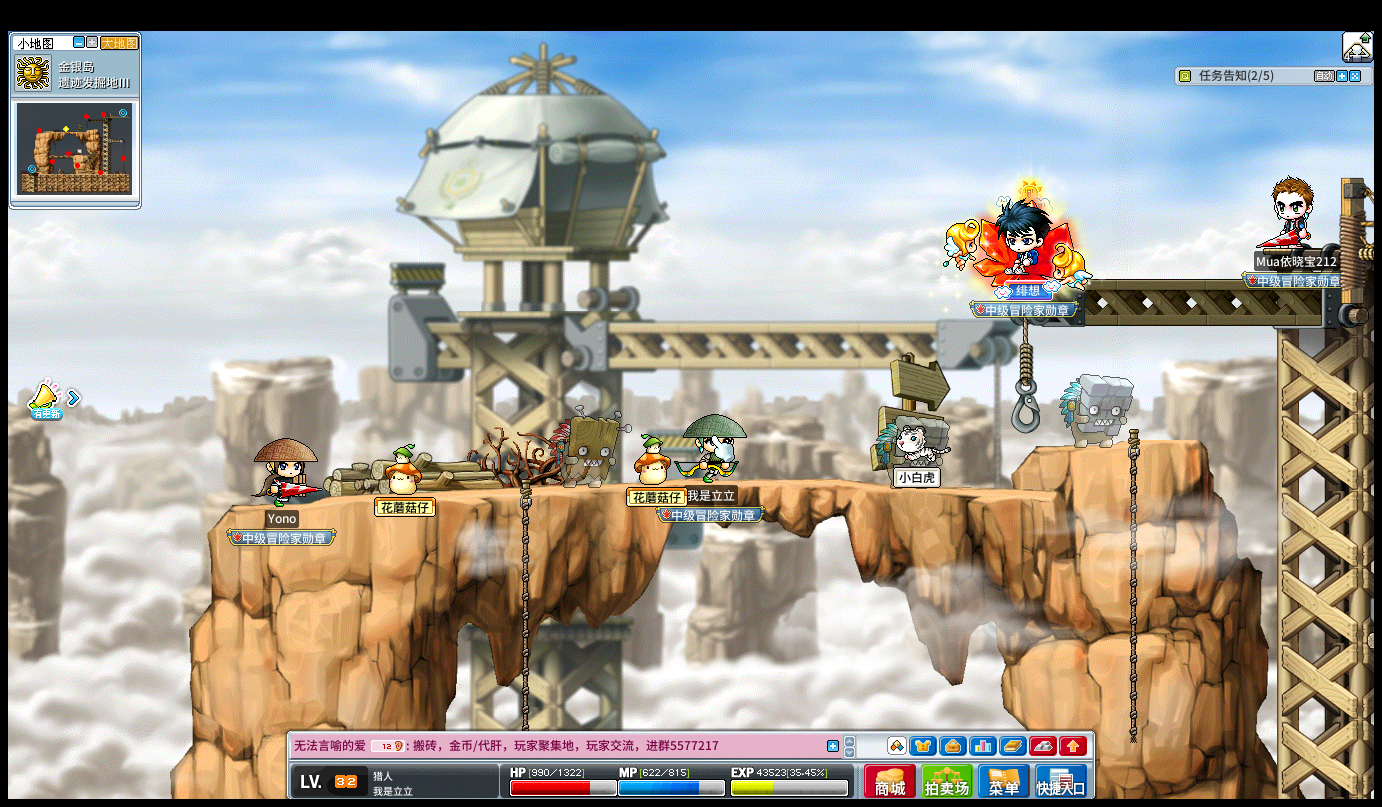floor: (233, 474, 1104, 500), (1031, 434, 1202, 450)
monster: (1058, 372, 1135, 448), (551, 409, 624, 487)
rope: (1125, 424, 1141, 770), (1126, 429, 1140, 658), (518, 475, 530, 682), (517, 477, 528, 683), (1020, 317, 1033, 435)
